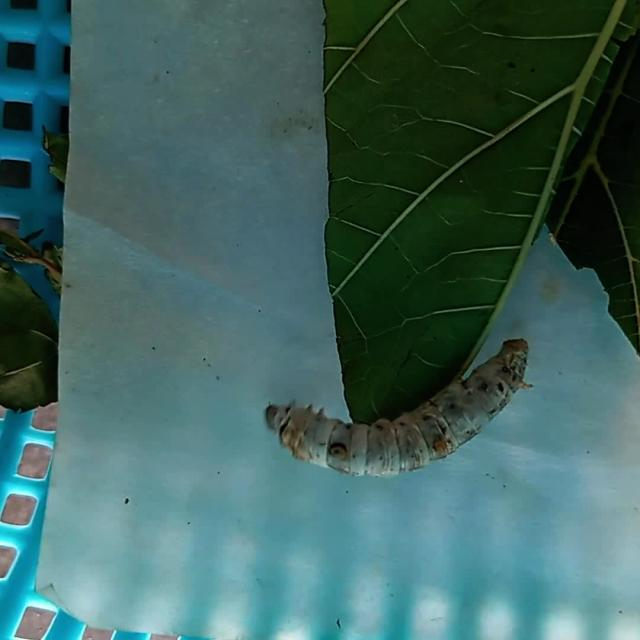Grasserie: (228, 324, 596, 506)
